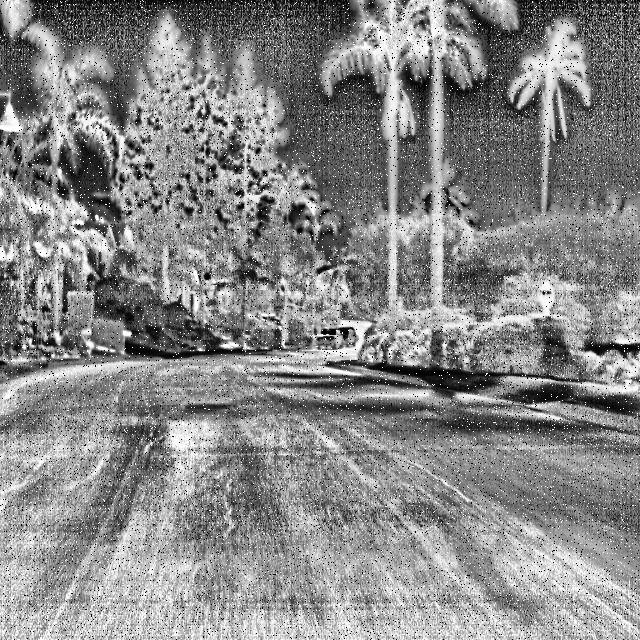car: (314, 323, 361, 356), (333, 316, 359, 357)
